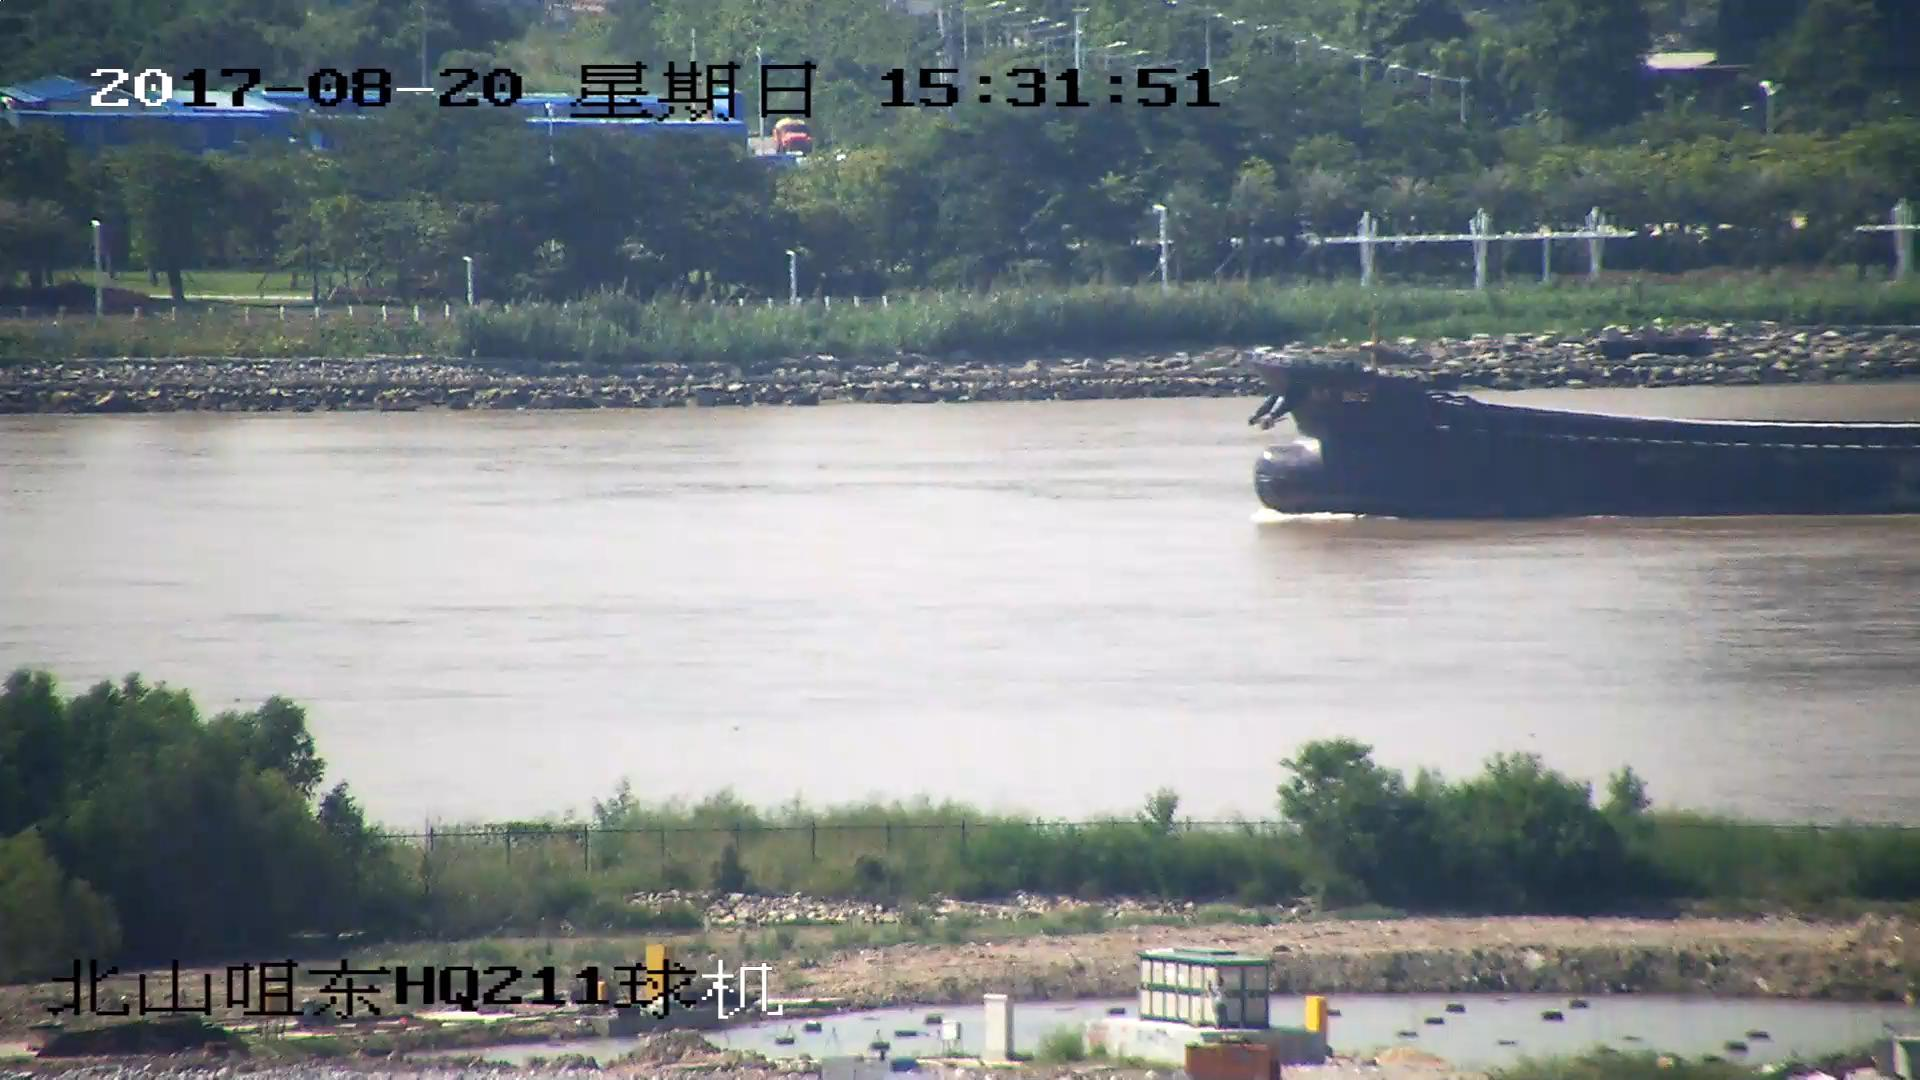Ship: (1254, 359, 1920, 520)
